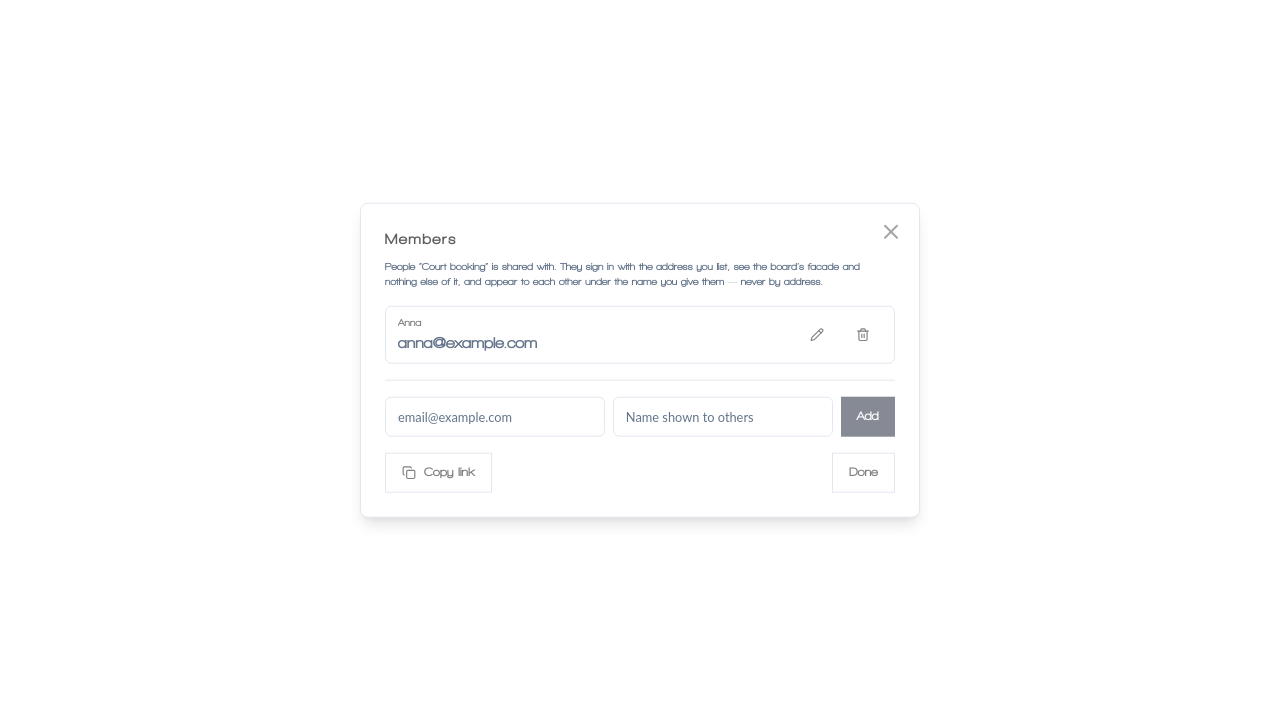
it: the members dialog › does not offer to add half an entry
expect the text "Anna" is shown: met, box [398,317,421,328]
expect the button "Add" is disabled: met, box [841,396,895,436]
Type "ben@example.com" into the field labelled "email".
click(495, 416); type("ben@example.com")  # box [385,396,605,436]
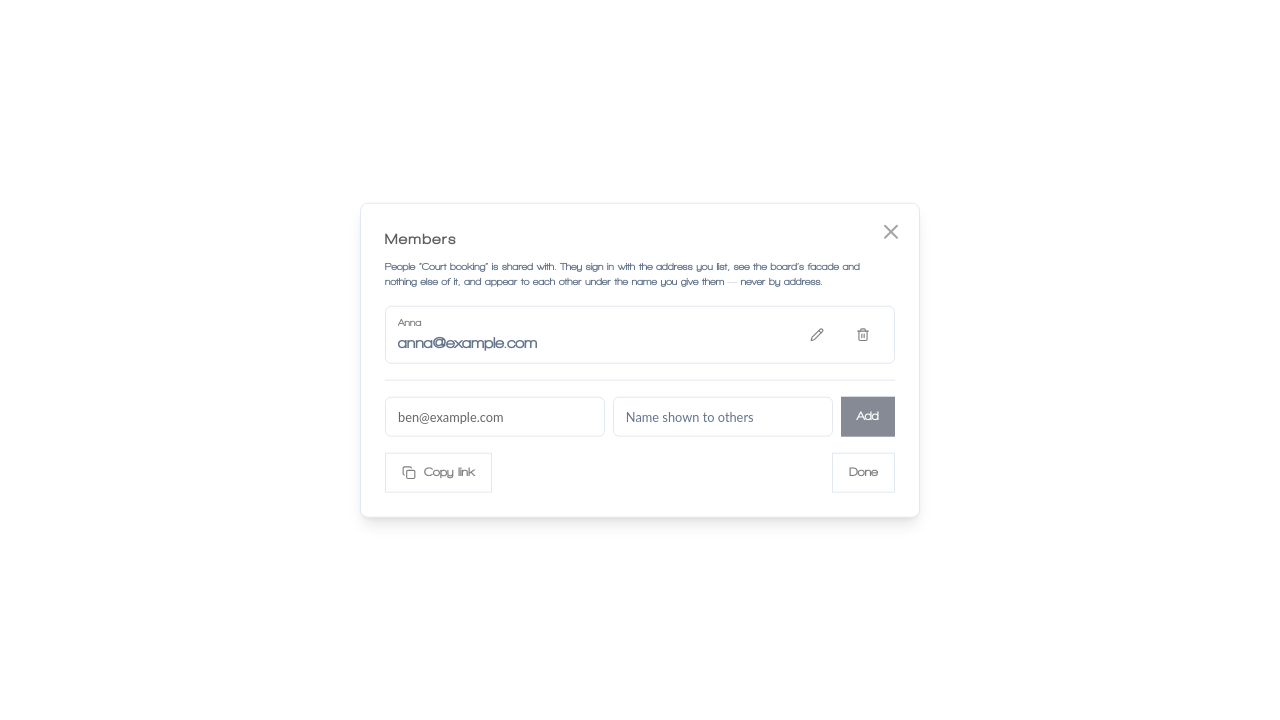
expect the button "Add" is disabled: met, box [841,396,895,436]
Type "Ben" into the field labelled "Name".
click(723, 416); type("Ben")  # box [613,396,833,436]
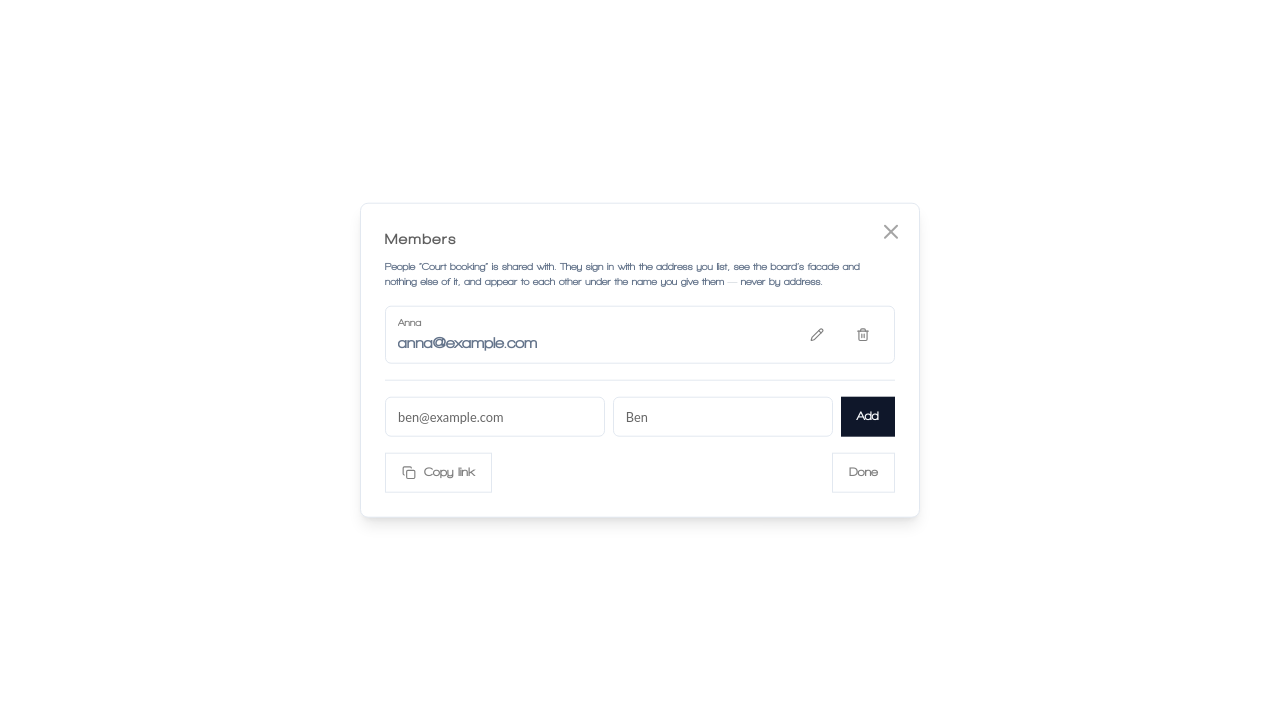
expect the button "Add" is enabled: met, box [841,396,895,436]
Replace the text in the field named "email" with "not an address" at (495, 416), box [385,396,605,436]
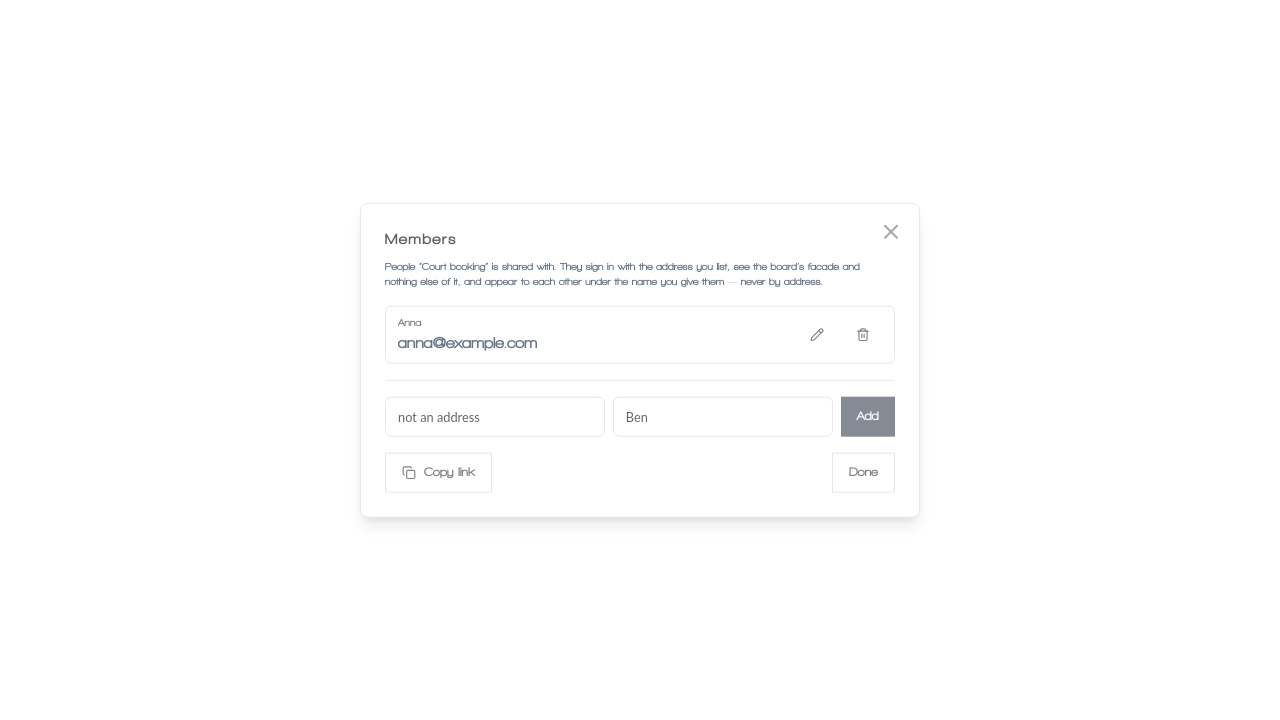
expect the button "Add" is disabled: met, box [841,396,895,436]
